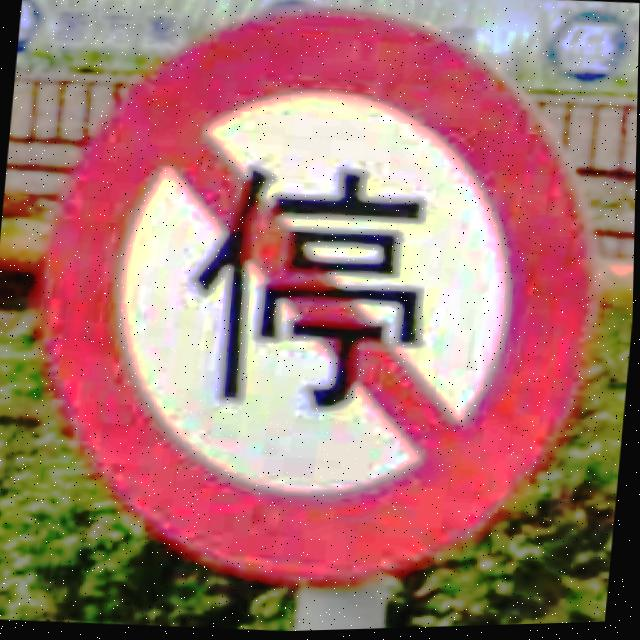nopark: (6, 0, 629, 614)
